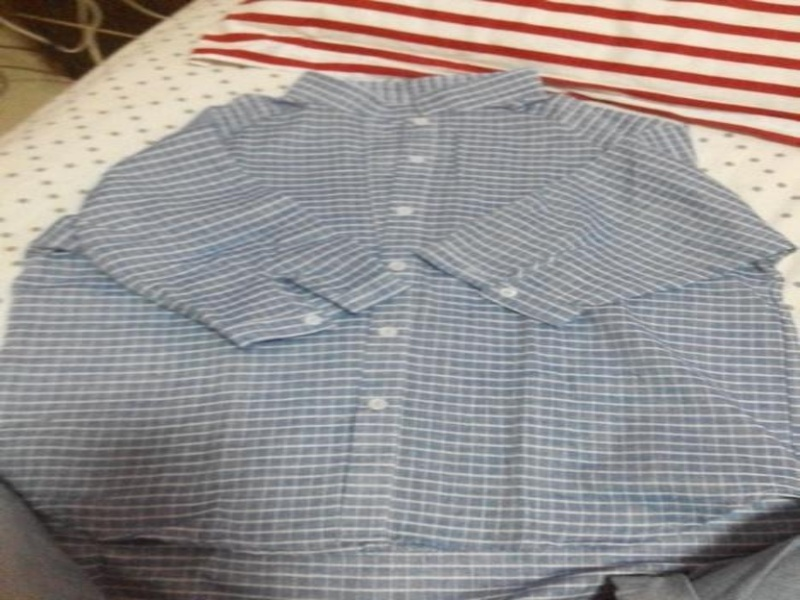long_sleeved_shirt: (3, 66, 797, 599)
